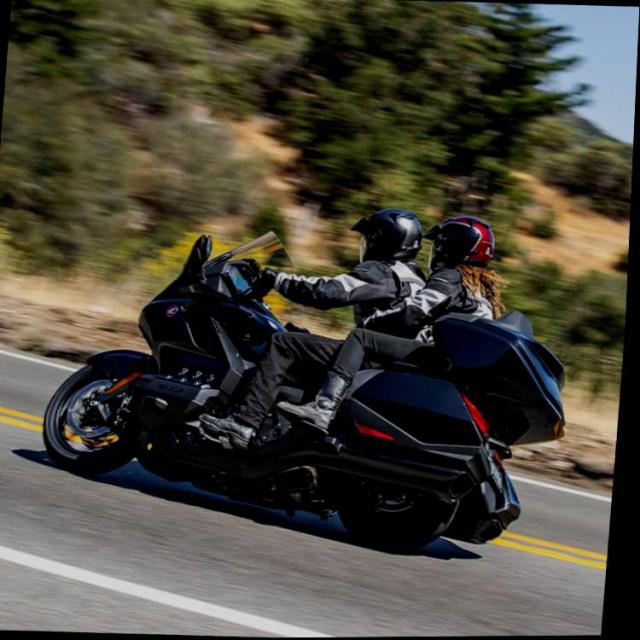Gold Wing: (36, 222, 584, 558)
